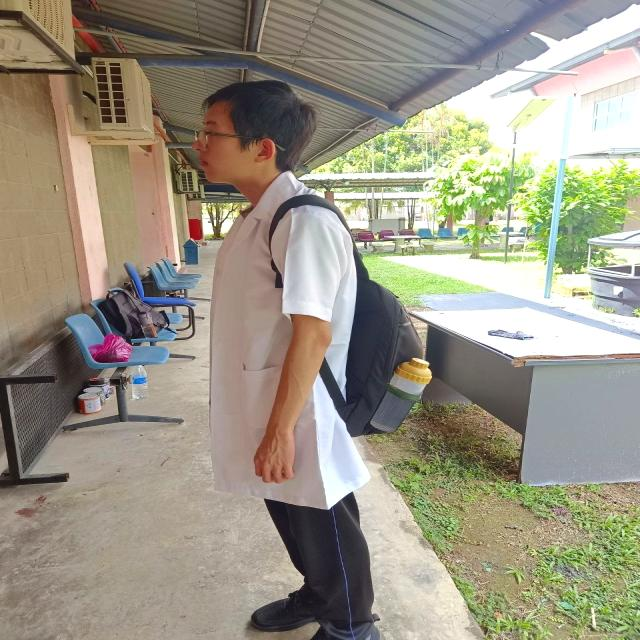person_with_labcoat: (193, 81, 431, 640)
